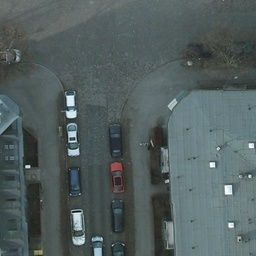car: (219, 38, 254, 58), (185, 40, 215, 61), (108, 122, 124, 155), (67, 121, 82, 156), (109, 161, 124, 195), (71, 209, 85, 245), (110, 199, 124, 233), (0, 44, 22, 64), (66, 167, 81, 196), (65, 89, 78, 119)
